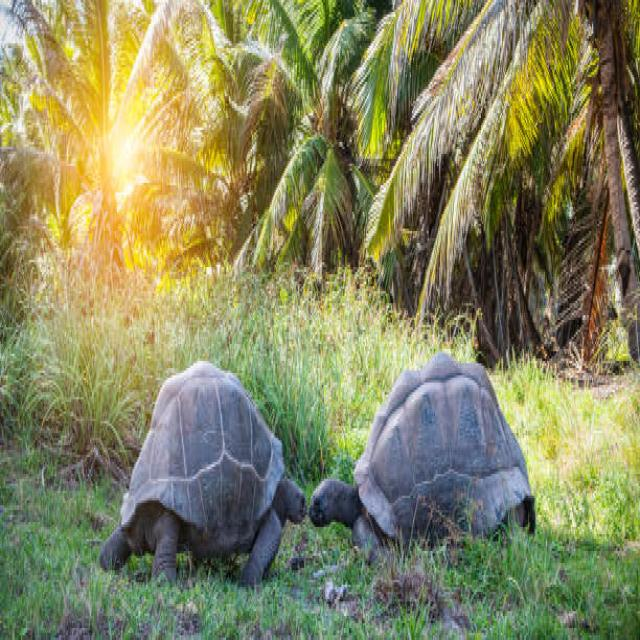tortoise: (355, 344, 545, 589), (106, 346, 302, 564), (235, 486, 293, 608), (147, 519, 196, 596), (311, 460, 351, 536), (278, 451, 303, 522)
